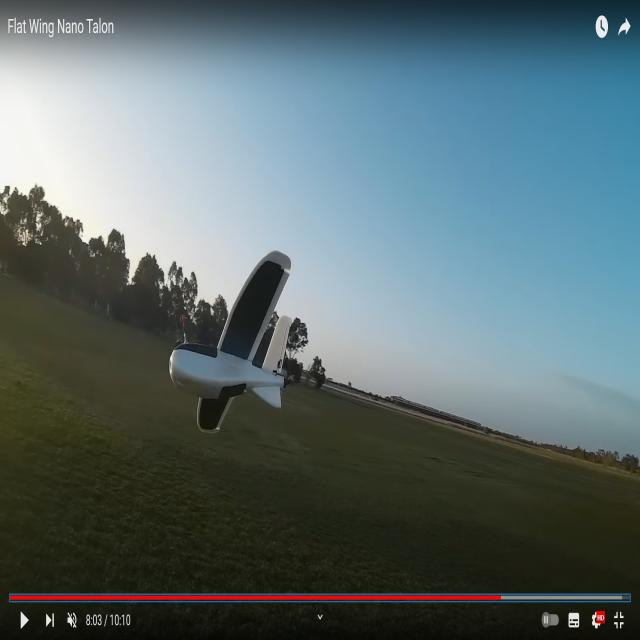iha: (200, 254, 262, 442)
